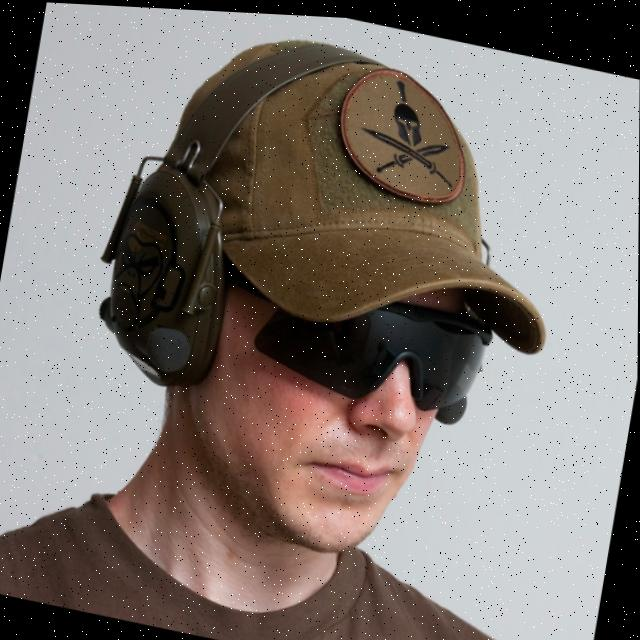illegal_helmet: (51, 2, 596, 603)
